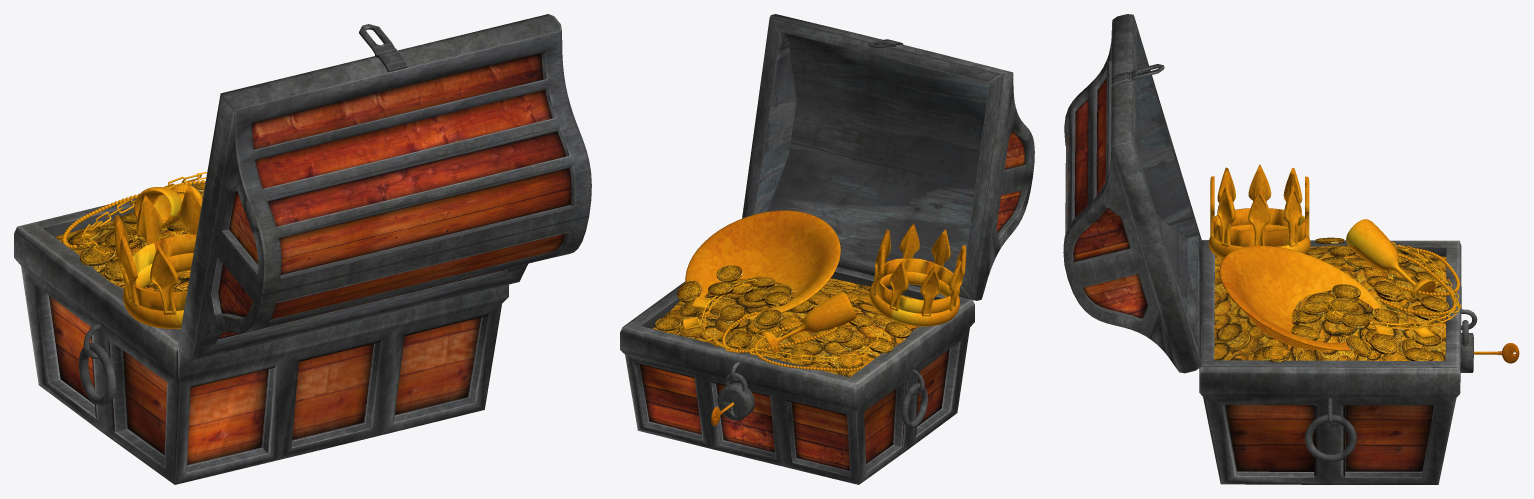
Rendered from Chest gold1.FBX.
3 renders of one model, left to right at view 1: azimuth 30°, elevation 25°; view 2: azimuth 150°, elevation 25°; view 3: azimuth 270°, elevation 25°, orthographic. The views are drawn at different scales.
Parts seen in each view (by area): view 1: chest gold 1; view 2: chest gold 1; view 3: chest gold 1.
Boxes of the visible parts, left/top/right/bottom form: chest gold 1: left=14, top=14, right=591, bottom=484; chest gold 1: left=620, top=14, right=1034, bottom=484; chest gold 1: left=1063, top=14, right=1519, bottom=484.
Bounding box in the file's own units: 1.92 × 2.62 × 2.27.
